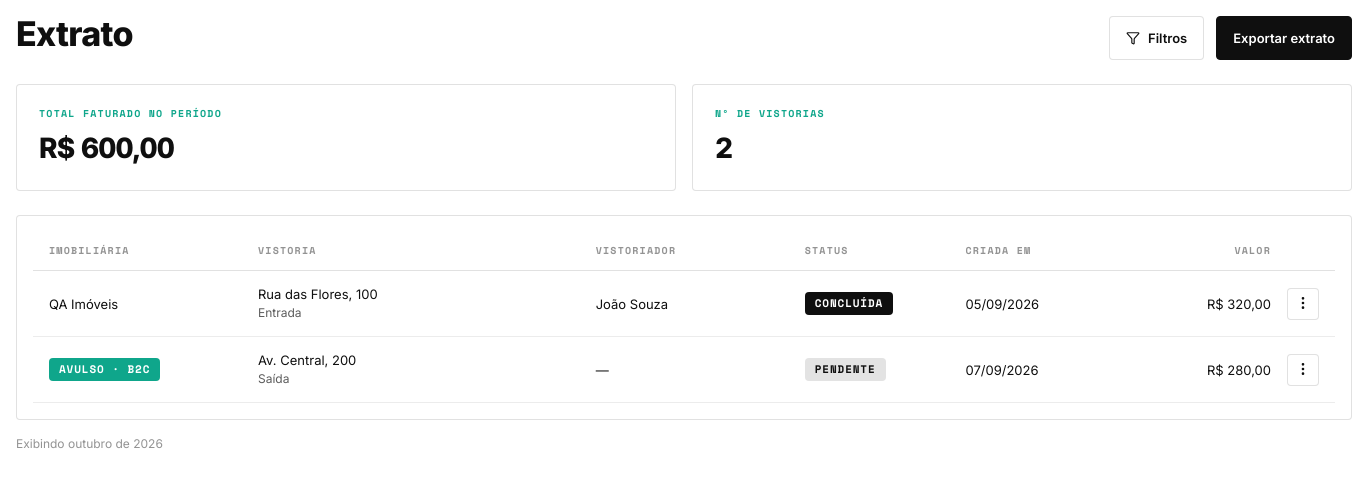
Extrato › ActionMenu: "Ver laudo" só quando há laudoId
What coordinates should you click on to do the following:
click the button named "Mais ações" next to "R$ 320,00"
I would click on:
 (1303, 304)
Its box is [1287, 288, 1319, 320].
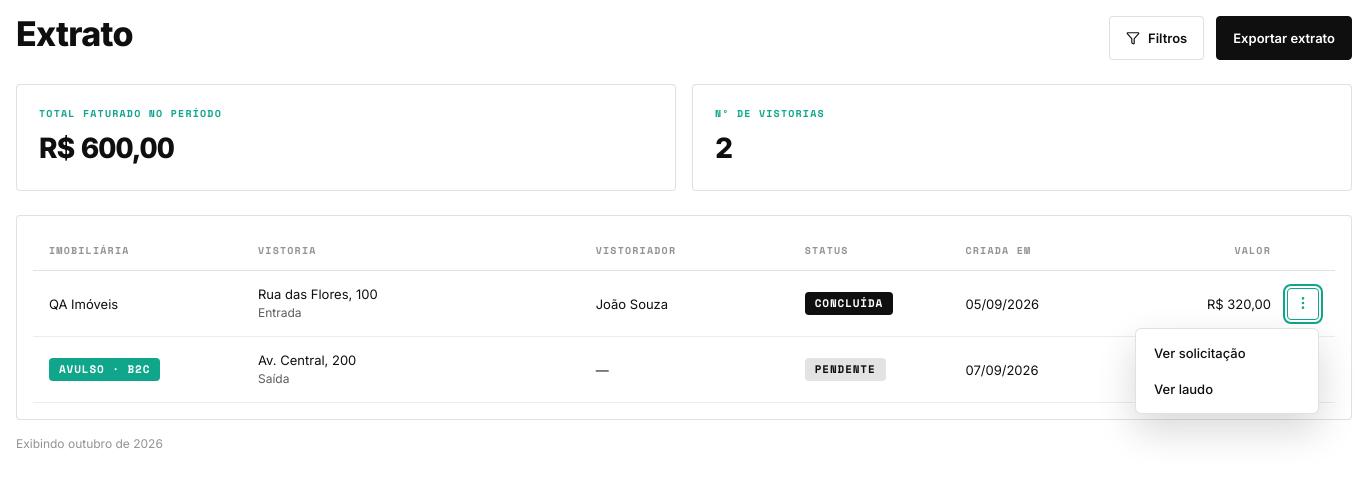
Expected: the menu item "Ver solicitação" is shown, [1142, 335, 1312, 371]
Expected: the menu item "Ver laudo" is shown, [1142, 371, 1312, 407]
What coordinates should you click on to do the following:
click the button named "Mais ações"
I would click on:
 (1303, 304)
Its box is [1287, 288, 1319, 320].
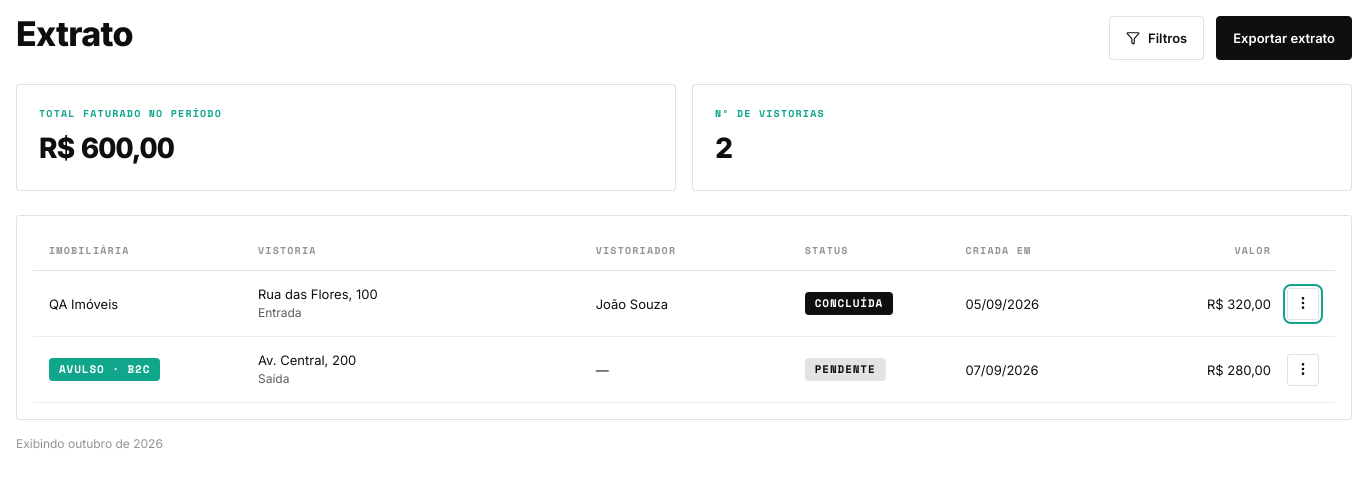
What coordinates should you click on to do the following:
click the button named "Mais ações" next to "R$ 280,00"
I would click on:
 (1303, 370)
Its box is [1287, 354, 1319, 386].
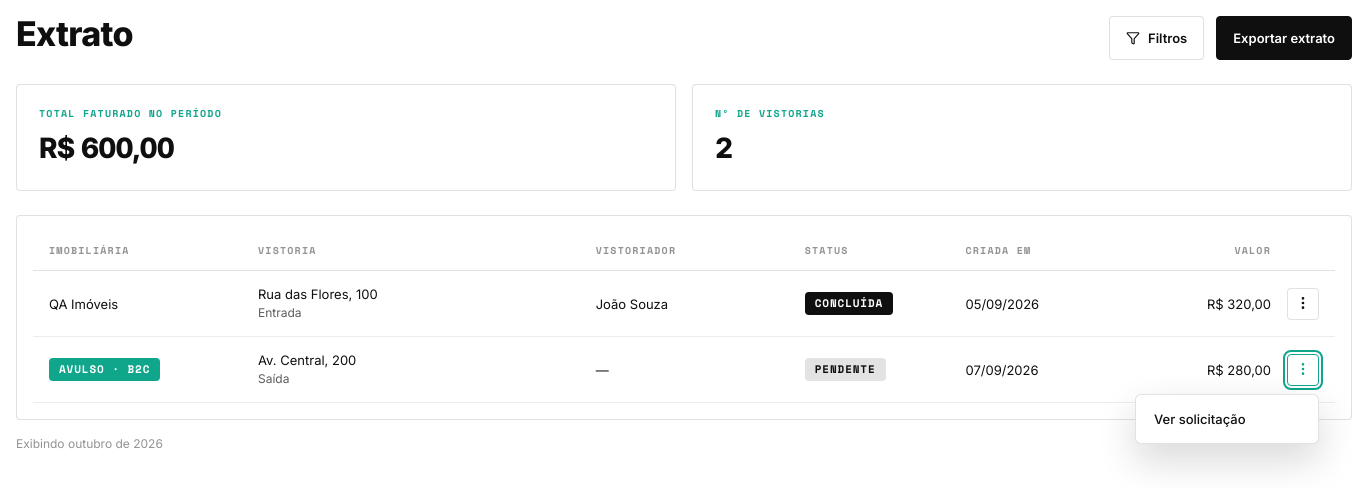
Expected: the menu item "Ver laudo" is not shown
Expected: the menu item "Ver solicitação" is shown, [1142, 401, 1312, 437]
